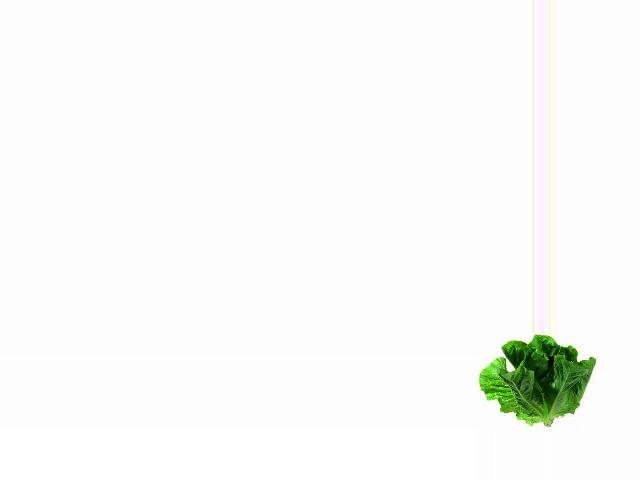lettuce: (480, 335, 597, 422)
